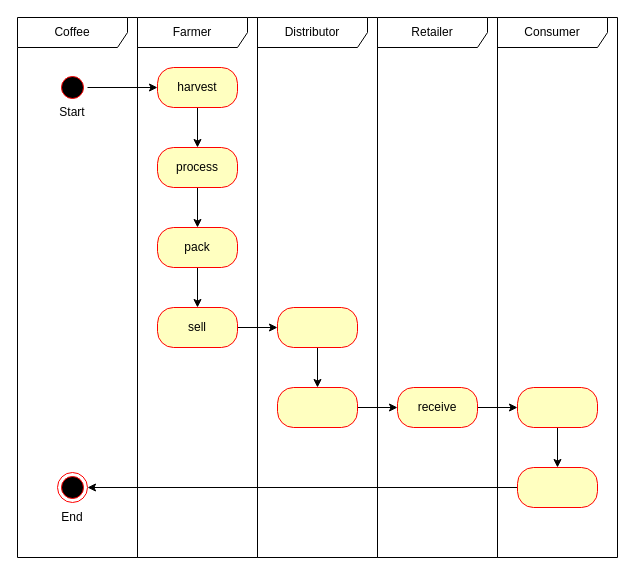
Some shapes in this 635 by 575 pixel diagram are drawn without their labels. Each missing label, with the centre of its shape:
buy: point (317, 327)
fetch details: point (557, 487)
purchase: point (557, 407)
ship: point (317, 407)
